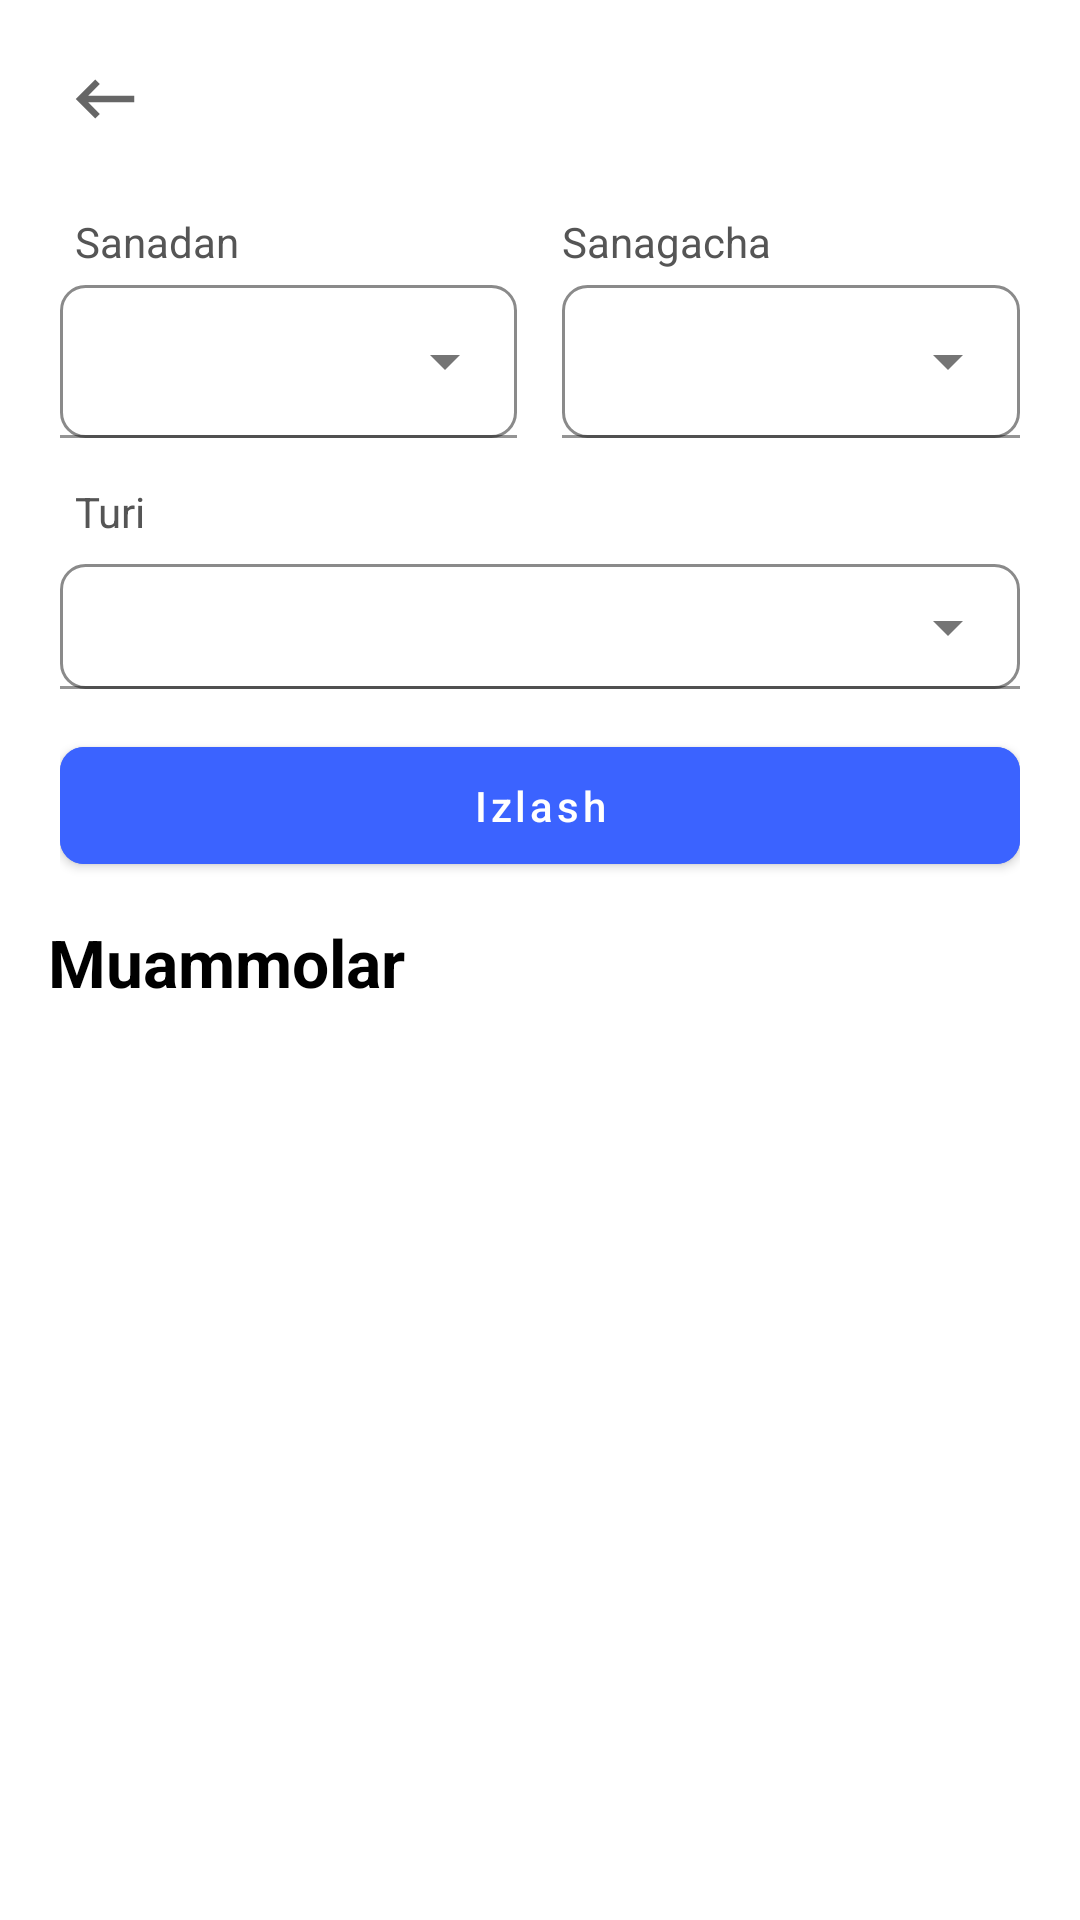

Screen size 1080w x 1920h. Icon name, then its center in pixels as (x,y):
keyboard backspace: (105,99)
